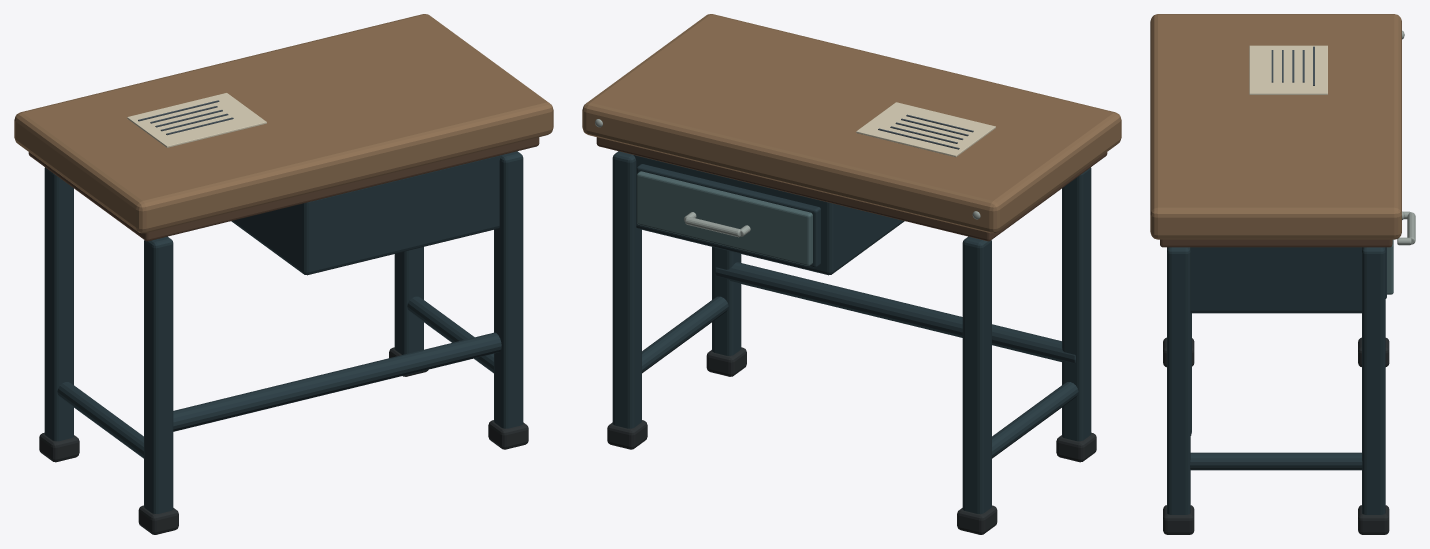
The model's file is desk.fbx.
The picture shows the model from 3 angles, left to right: view 1: azimuth 30°, elevation 25°; view 2: azimuth 150°, elevation 25°; view 3: azimuth 270°, elevation 25°; orthographic projection.
Parts seen in each view (by area): view 1: desk; view 2: desk; view 3: desk.
Part boxes in pixels (x1,y1,x2,y2): desk: (14, 14, 553, 534); desk: (582, 14, 1121, 534); desk: (1150, 14, 1415, 534).
Size of the model in its own units: 150 by 119 by 84.3.
